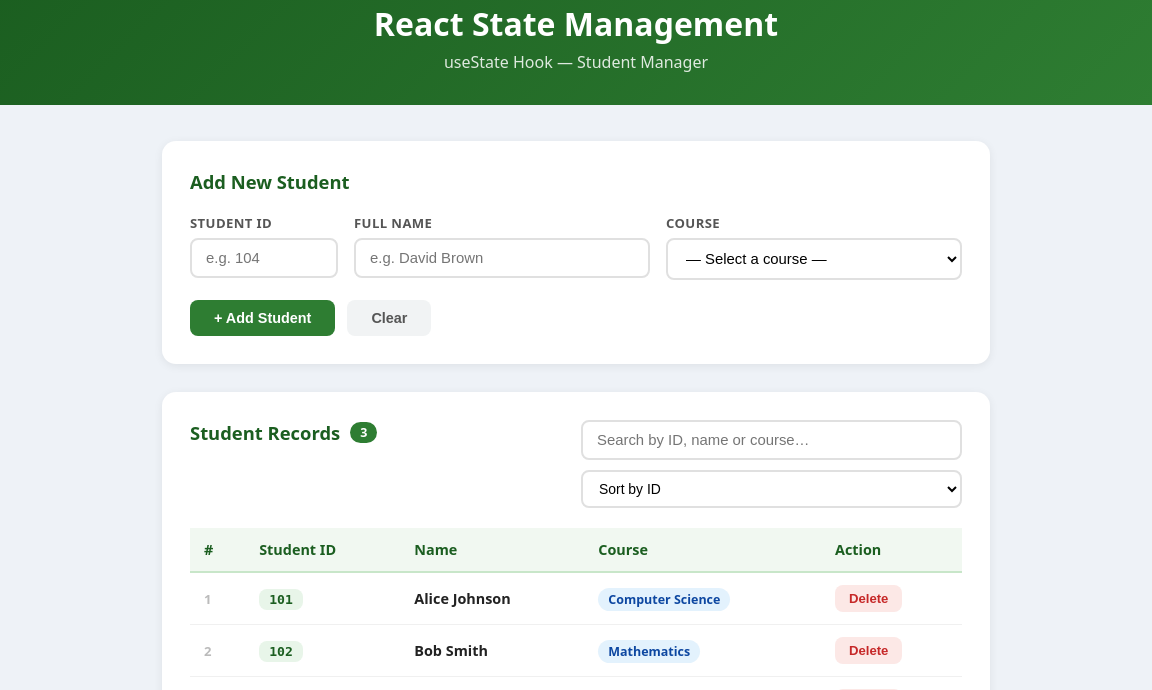
adds a new student
Type "999" into the field labelled "Student ID". click: (264, 258)
box: [190,238,338,278]
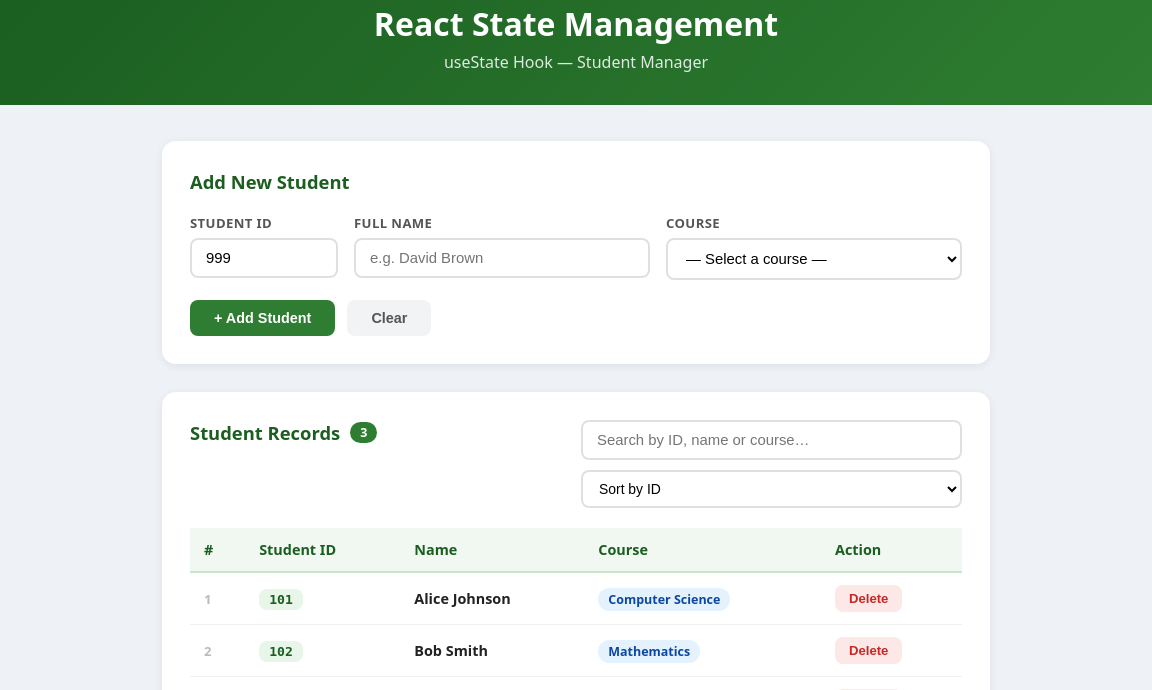
Type "Test User" into the field labelled "Full Name". click: (502, 258)
box: [354,238,650,278]
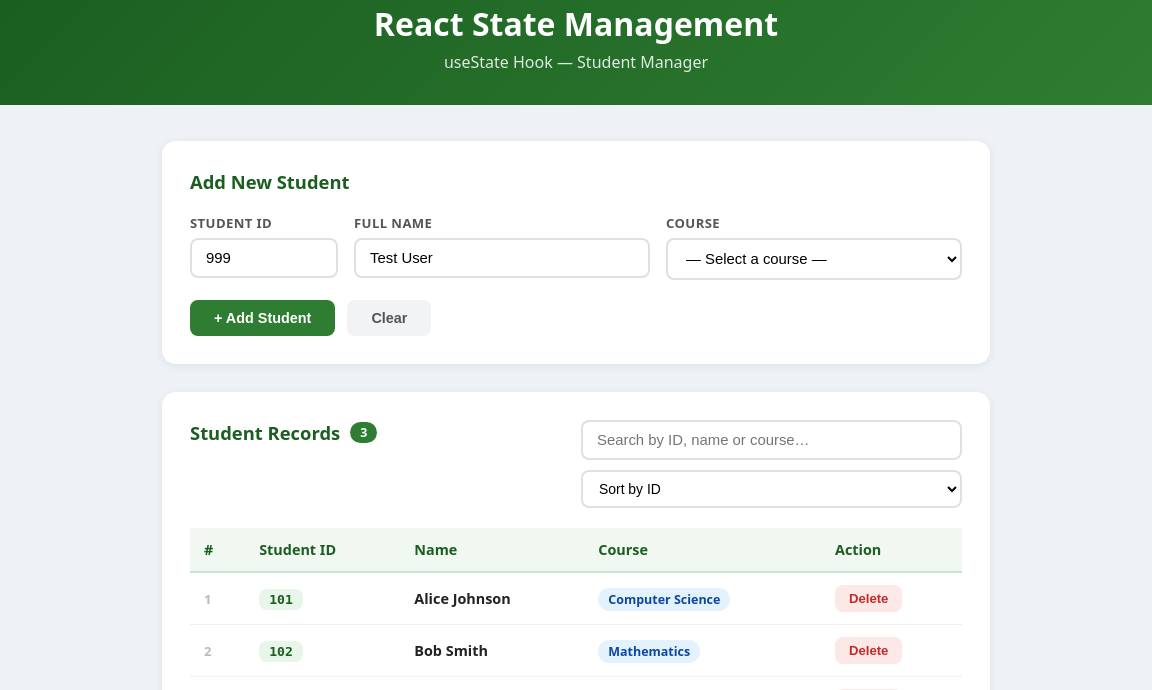
Select "Physics" in the dropdown labelled "Course". click: (814, 259)
box: [666,238,962,280]
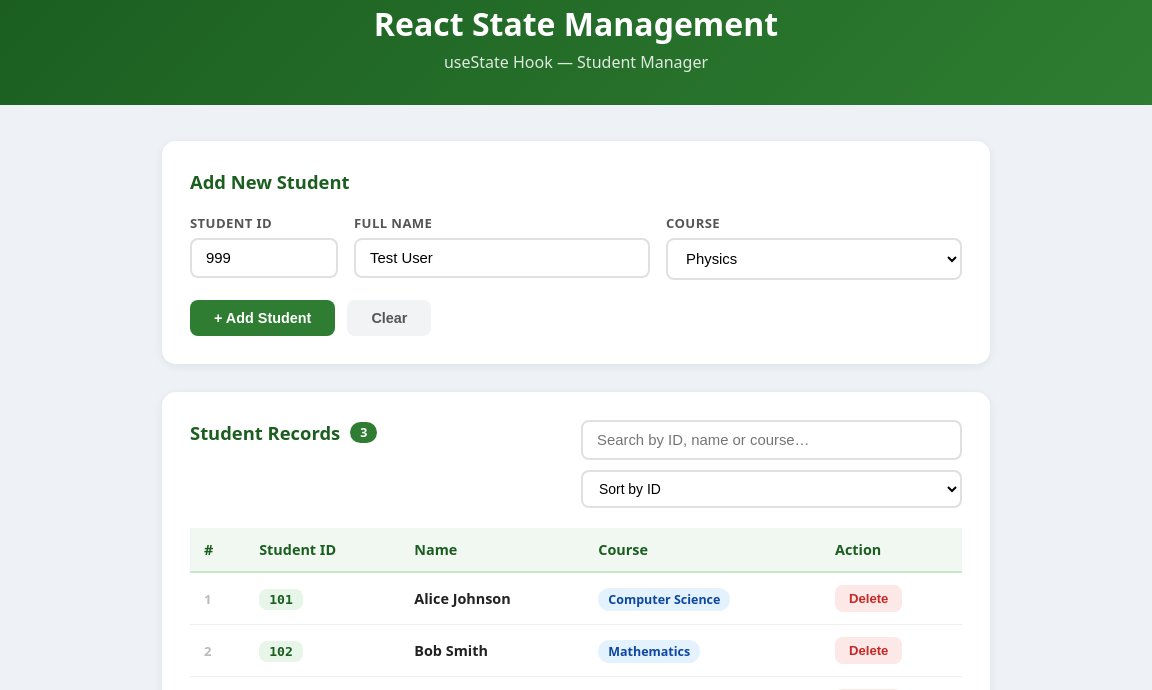
Click the button "+ Add Student". click: (263, 318)
box: [190,300,335,336]
(page scrolled)
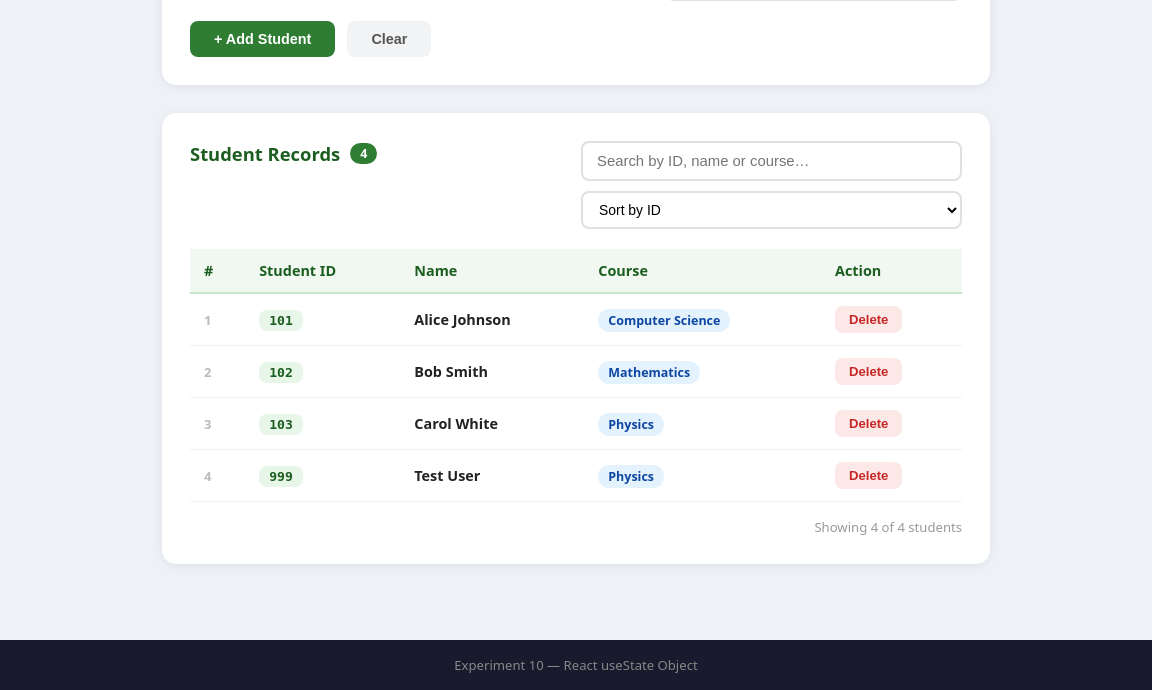
Expected: the text "Test User" is shown, [400,450,584,502]
